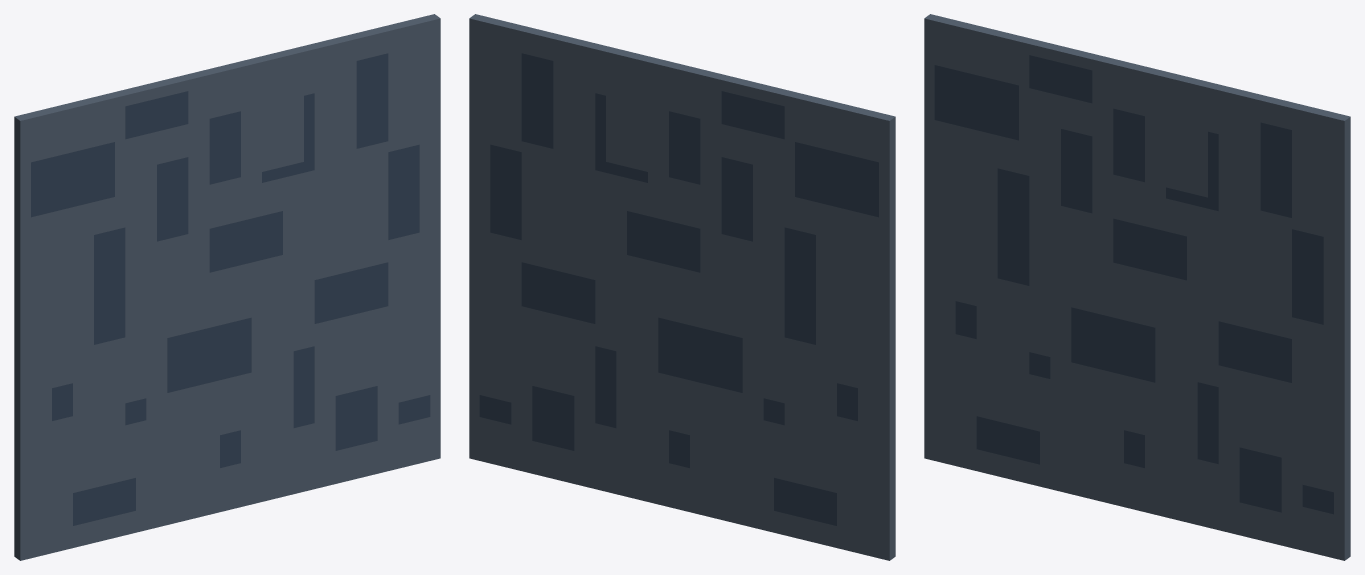
Rendered from wall.obj.
The picture shows the model from 3 angles, left to right: view 1: azimuth 30°, elevation 25°; view 2: azimuth 150°, elevation 25°; view 3: azimuth 330°, elevation 25°; orthographic projection.
Parts seen in each view (by area): view 1: wall; view 2: wall; view 3: wall.
Boxes of the visible parts, x1=… form: wall: x1=14, y1=14, x2=440, y2=560; wall: x1=469, y1=14, x2=895, y2=560; wall: x1=924, y1=14, x2=1350, y2=560.
Size of the model in its own units: 40 by 40 by 1.
1 material, 1 textured.
